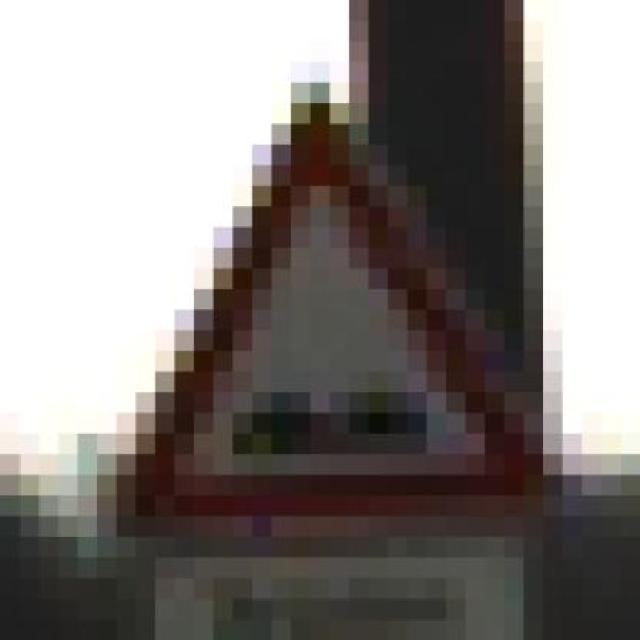Uneven Road: (78, 62, 582, 558)
